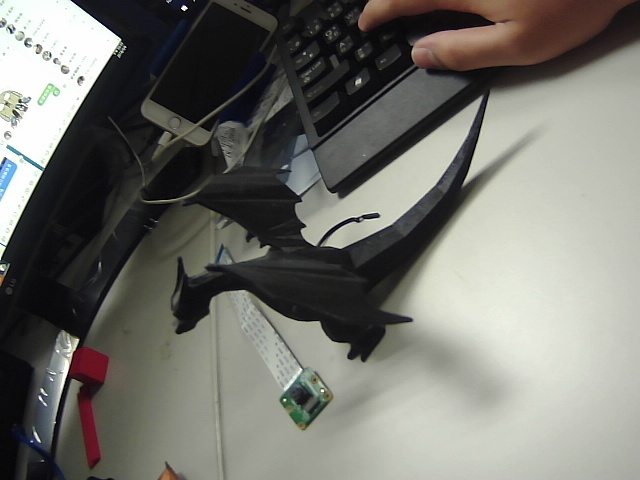charizard: (158, 55, 550, 390)
